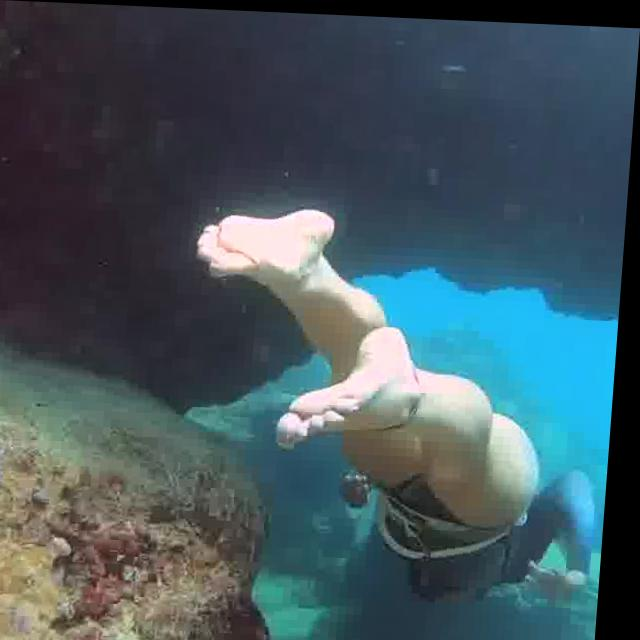human: (165, 186, 630, 612)
